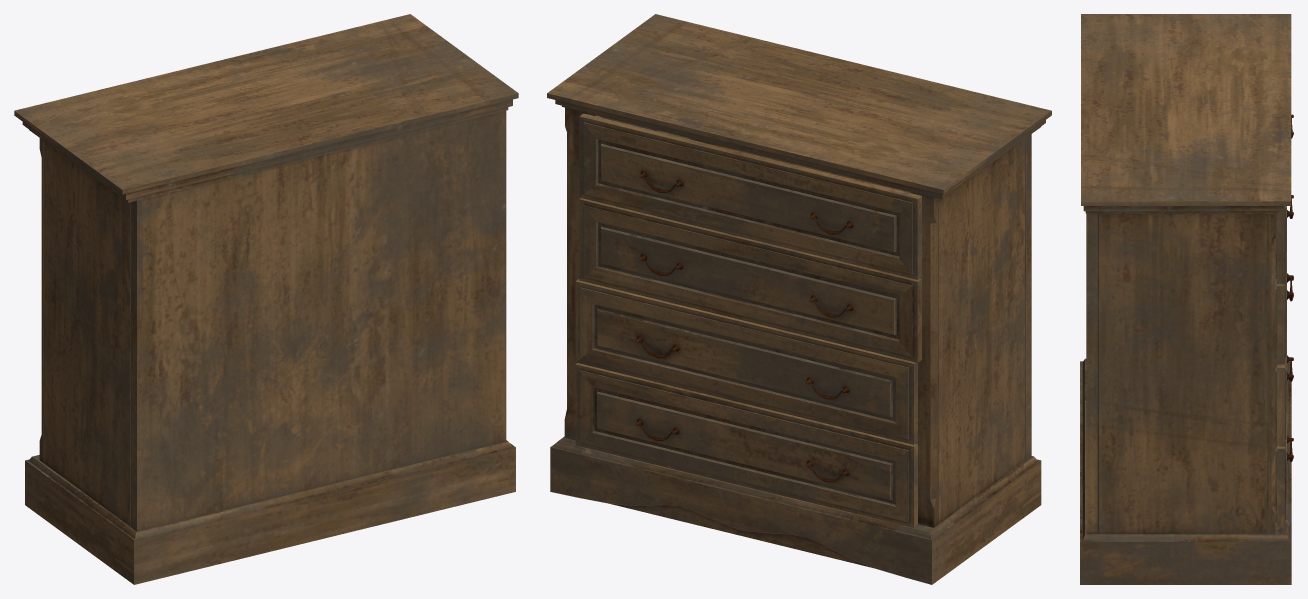
Rendered from dress01.obj.
3 views of the same model, side by side, from view 1: azimuth 30°, elevation 25°; view 2: azimuth 150°, elevation 25°; view 3: azimuth 270°, elevation 25° (orthographic). The views are drawn at different scales.
Visible parts, largest first — view 1: SM_Dresser_01_A; view 2: SM_Dresser_01_A; view 3: SM_Dresser_01_A.
Boxes of the visible parts, box(x1,y1,x2,y2) form: SM_Dresser_01_A: box(14, 14, 518, 584); SM_Dresser_01_A: box(547, 14, 1051, 584); SM_Dresser_01_A: box(1080, 14, 1293, 584).
Bounding box in the file's own units: 104 × 99.91 × 50.27.
2 materials, 2 textured.
